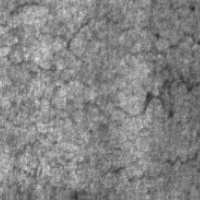crazing: (118, 30, 199, 130), (7, 139, 134, 197), (0, 0, 110, 66)
